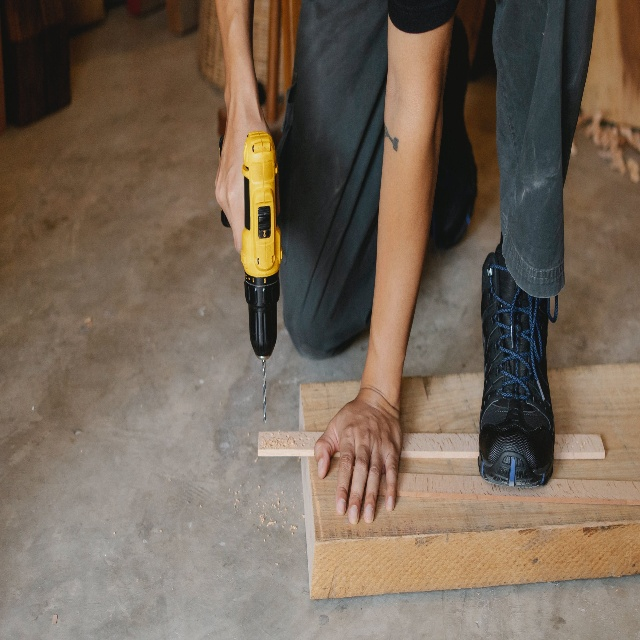Sin_guantes: (313, 387, 403, 525), (214, 99, 282, 252)
